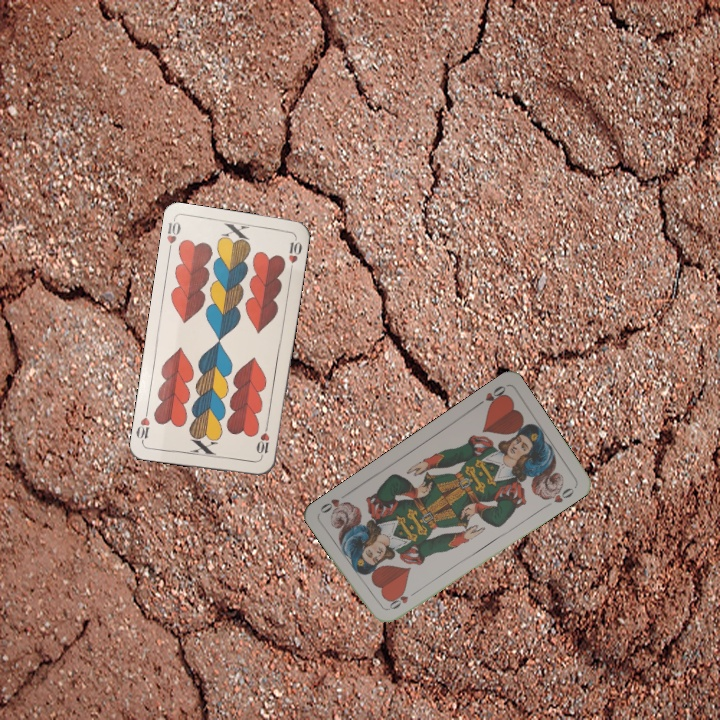H10: (163, 216, 183, 257), (253, 421, 272, 461)
HO: (472, 381, 509, 410), (383, 586, 420, 613)
